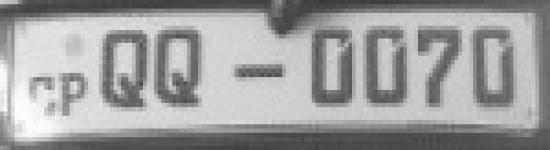-: (231, 61, 291, 85)
0: (303, 16, 360, 113), (364, 16, 416, 112), (472, 20, 522, 115)
7: (416, 17, 469, 112)
C: (23, 65, 58, 122)
P: (58, 64, 87, 122)
Q: (91, 22, 149, 117), (151, 22, 208, 117)
